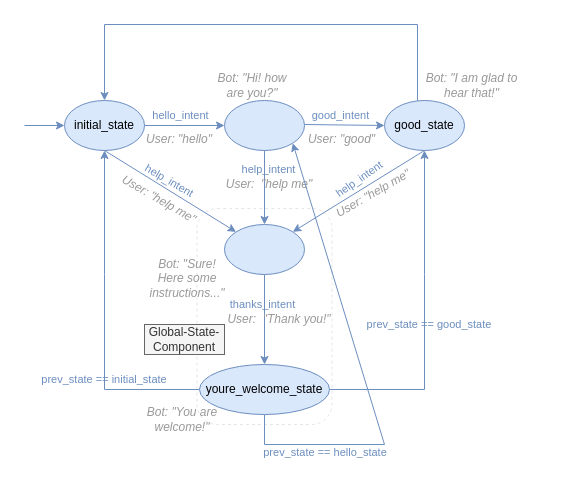
The diagram is 567 pixels wide and 485 high, and some of its shapes have lost their labels. Here are the shapes that lost their labels. From the top down, the box of each, then its label:
(224, 100, 304, 150): hello_state
(224, 224, 304, 274): help_state
